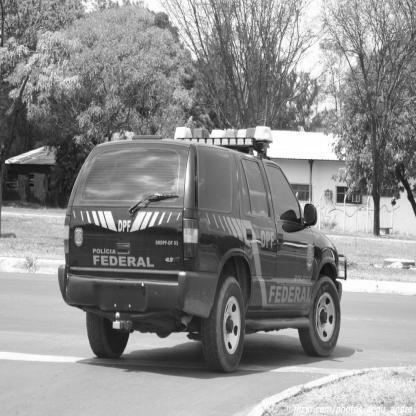car: (54, 107, 348, 388)
